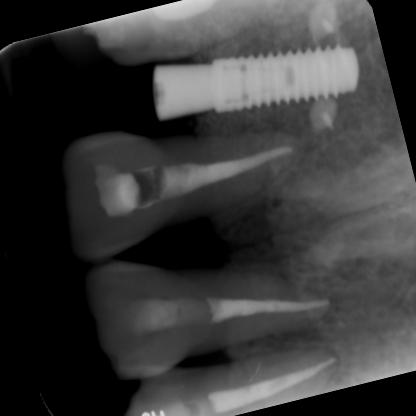ITI: (197, 13, 370, 132)
